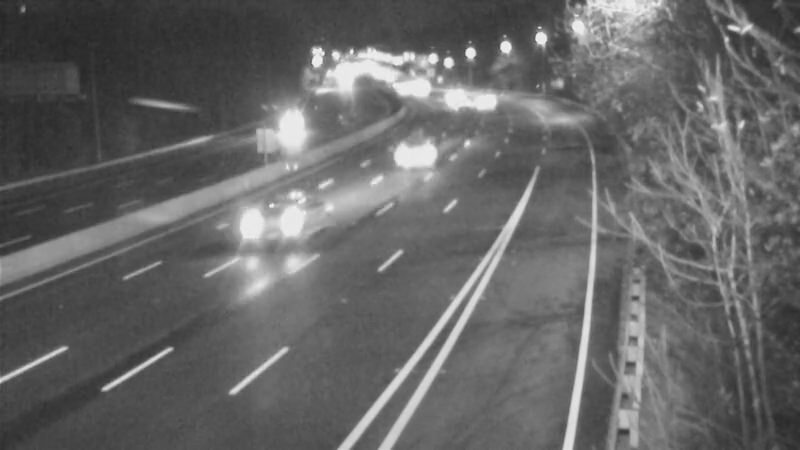vehicle: (244, 177, 324, 257), (427, 66, 477, 116), (454, 72, 504, 122), (386, 125, 436, 175), (259, 108, 309, 158)
